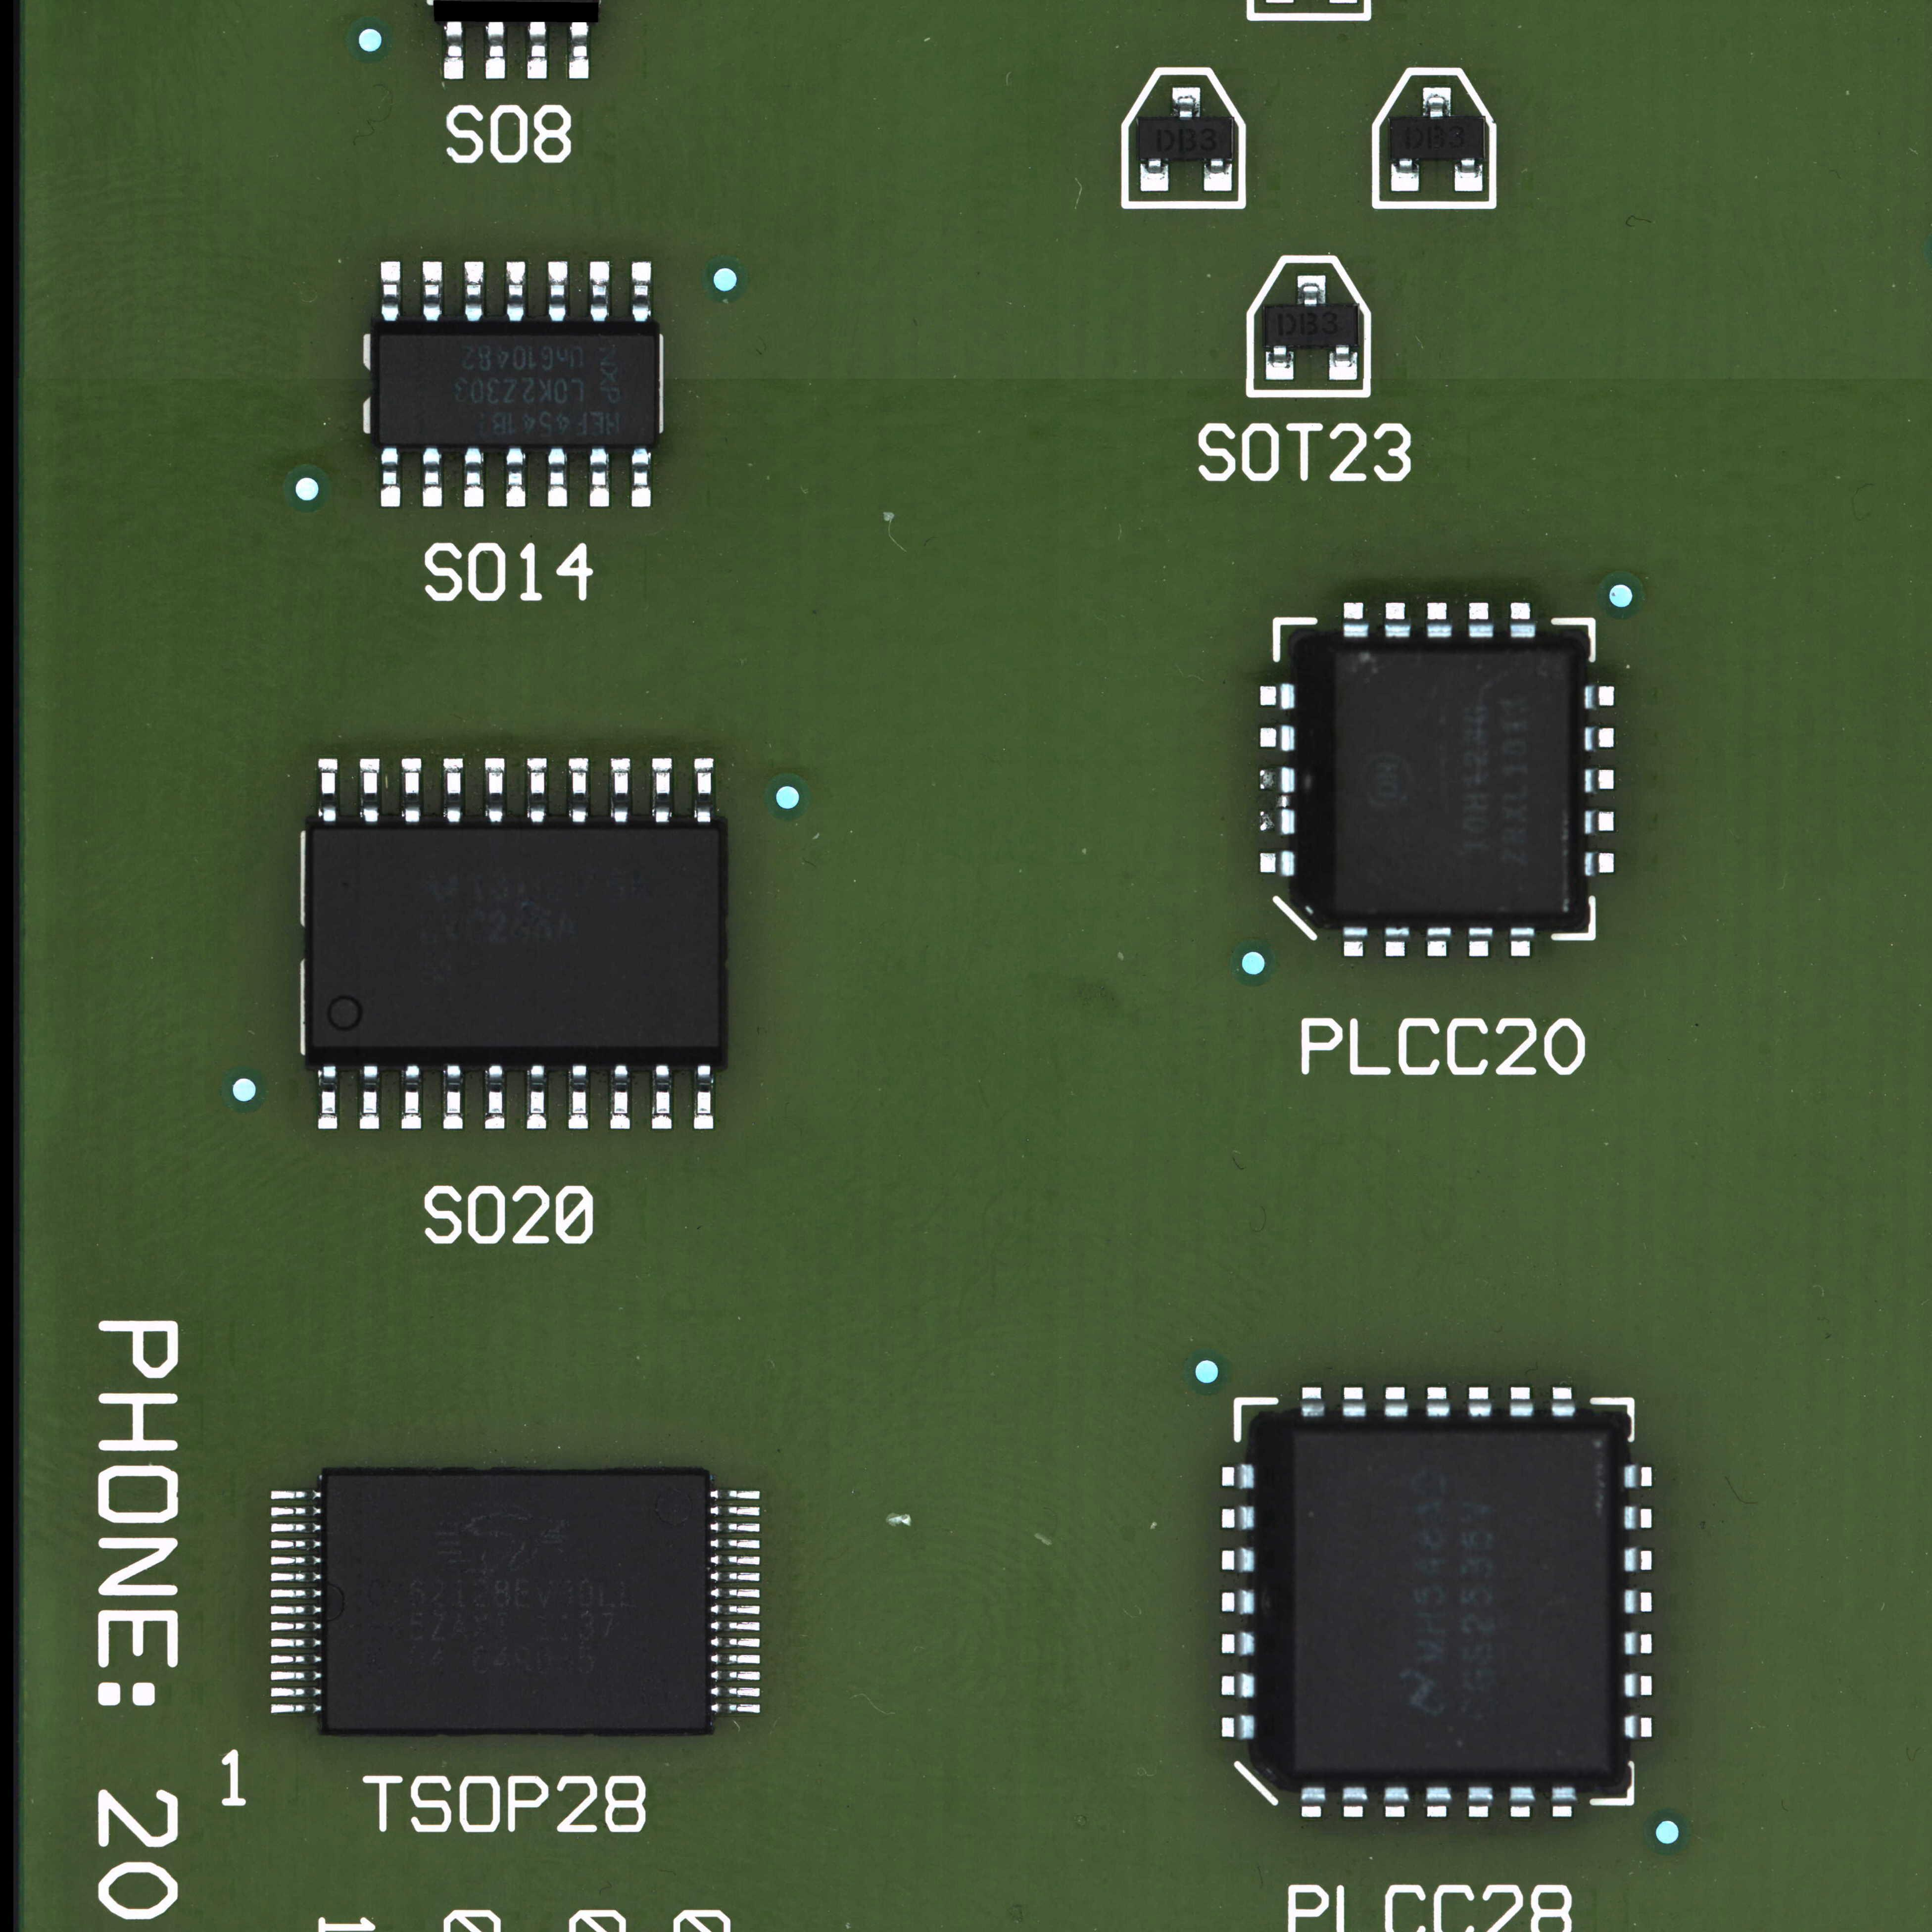Package: (1292, 1431, 1615, 1780), (326, 1474, 708, 1730), (313, 826, 724, 1051), (1332, 651, 1576, 924), (380, 334, 655, 444), (1389, 119, 1483, 157), (1139, 120, 1231, 157), (1265, 308, 1355, 345)
Solder: (566, 21, 593, 81), (317, 1063, 340, 1131), (483, 1063, 506, 1131), (400, 1063, 423, 1131), (568, 757, 591, 824), (609, 1063, 632, 1131), (317, 757, 340, 824), (442, 1063, 465, 1131), (442, 757, 465, 824), (525, 19, 550, 81), (442, 19, 467, 80), (483, 19, 508, 80), (504, 446, 527, 510), (587, 446, 610, 510), (527, 757, 548, 826), (694, 1062, 715, 1131), (525, 1063, 547, 1132), (651, 1063, 672, 1131), (568, 1063, 589, 1131), (651, 757, 672, 824), (359, 1063, 380, 1131), (694, 757, 715, 824), (630, 446, 653, 508), (421, 444, 442, 510), (402, 757, 423, 823), (464, 446, 485, 510), (380, 260, 402, 324), (589, 260, 610, 324), (485, 757, 504, 826), (380, 448, 402, 510), (547, 446, 568, 508), (610, 757, 630, 824), (359, 757, 379, 824), (464, 262, 485, 322), (548, 260, 568, 326), (1256, 764, 1297, 794), (423, 262, 442, 324), (506, 262, 525, 324), (632, 262, 651, 324), (1258, 683, 1297, 711), (1265, 345, 1295, 380), (1260, 724, 1297, 752), (1467, 602, 1495, 639), (1509, 602, 1537, 639), (1219, 1504, 1256, 1532), (1384, 602, 1412, 639), (1426, 602, 1454, 639), (1258, 809, 1297, 835), (1139, 157, 1169, 191), (1424, 1785, 1454, 1819), (1329, 345, 1357, 380), (1465, 1384, 1493, 1419), (1219, 1461, 1254, 1490), (1258, 851, 1295, 878), (1343, 602, 1369, 639), (1203, 157, 1231, 191), (1384, 925, 1412, 959), (1341, 1785, 1369, 1819), (1382, 1785, 1410, 1819), (1391, 157, 1419, 191), (1454, 157, 1483, 191), (1507, 1385, 1536, 1419), (1424, 1385, 1453, 1419), (1382, 1385, 1410, 1419), (1299, 1385, 1327, 1419), (1221, 1714, 1256, 1741), (1221, 1672, 1256, 1698), (1221, 1546, 1256, 1573), (1509, 1787, 1537, 1819), (1422, 87, 1451, 119), (1583, 766, 1615, 794), (1173, 87, 1200, 120), (1299, 1785, 1325, 1819), (1550, 1385, 1576, 1419), (1221, 1631, 1256, 1656), (1221, 1591, 1256, 1615), (1297, 276, 1325, 306), (1622, 1672, 1652, 1700), (1552, 1785, 1578, 1817), (1467, 1785, 1493, 1817), (1583, 685, 1615, 711), (1426, 925, 1453, 957), (1341, 1385, 1368, 1417), (1582, 810, 1615, 835), (1509, 927, 1536, 957), (1622, 1463, 1652, 1490), (1622, 1546, 1652, 1573), (1583, 727, 1615, 752), (1583, 853, 1615, 878), (1468, 927, 1493, 959), (1621, 1714, 1652, 1739), (1622, 1506, 1652, 1530), (1622, 1589, 1652, 1614), (1622, 1631, 1652, 1656), (709, 1684, 761, 1698), (709, 1635, 761, 1649), (709, 1585, 761, 1599), (1343, 927, 1366, 957), (709, 1652, 763, 1665), (271, 1506, 322, 1518), (271, 1605, 324, 1615), (709, 1603, 763, 1614), (269, 1490, 322, 1500), (271, 1688, 324, 1698), (709, 1539, 763, 1550), (271, 1704, 324, 1714), (269, 1539, 322, 1550), (709, 1621, 761, 1631), (709, 1506, 761, 1516), (271, 1523, 322, 1534), (271, 1573, 322, 1583), (709, 1702, 761, 1713), (709, 1571, 761, 1582), (709, 1670, 761, 1681), (271, 1555, 322, 1566), (709, 1555, 761, 1566), (709, 1490, 761, 1500), (271, 1638, 322, 1649), (271, 1589, 322, 1599), (271, 1656, 324, 1665), (709, 1523, 763, 1532), (271, 1622, 322, 1631), (271, 1672, 322, 1681)
